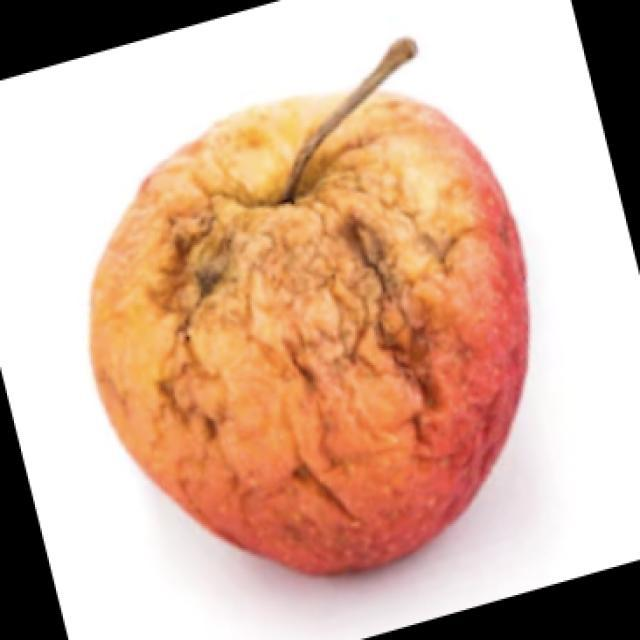Rotten: (101, 98, 532, 582)
